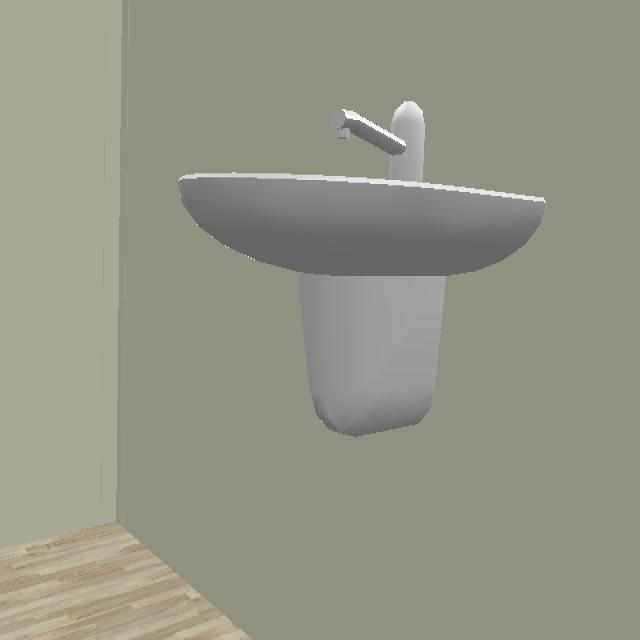washbasin: (178, 105, 546, 440)
